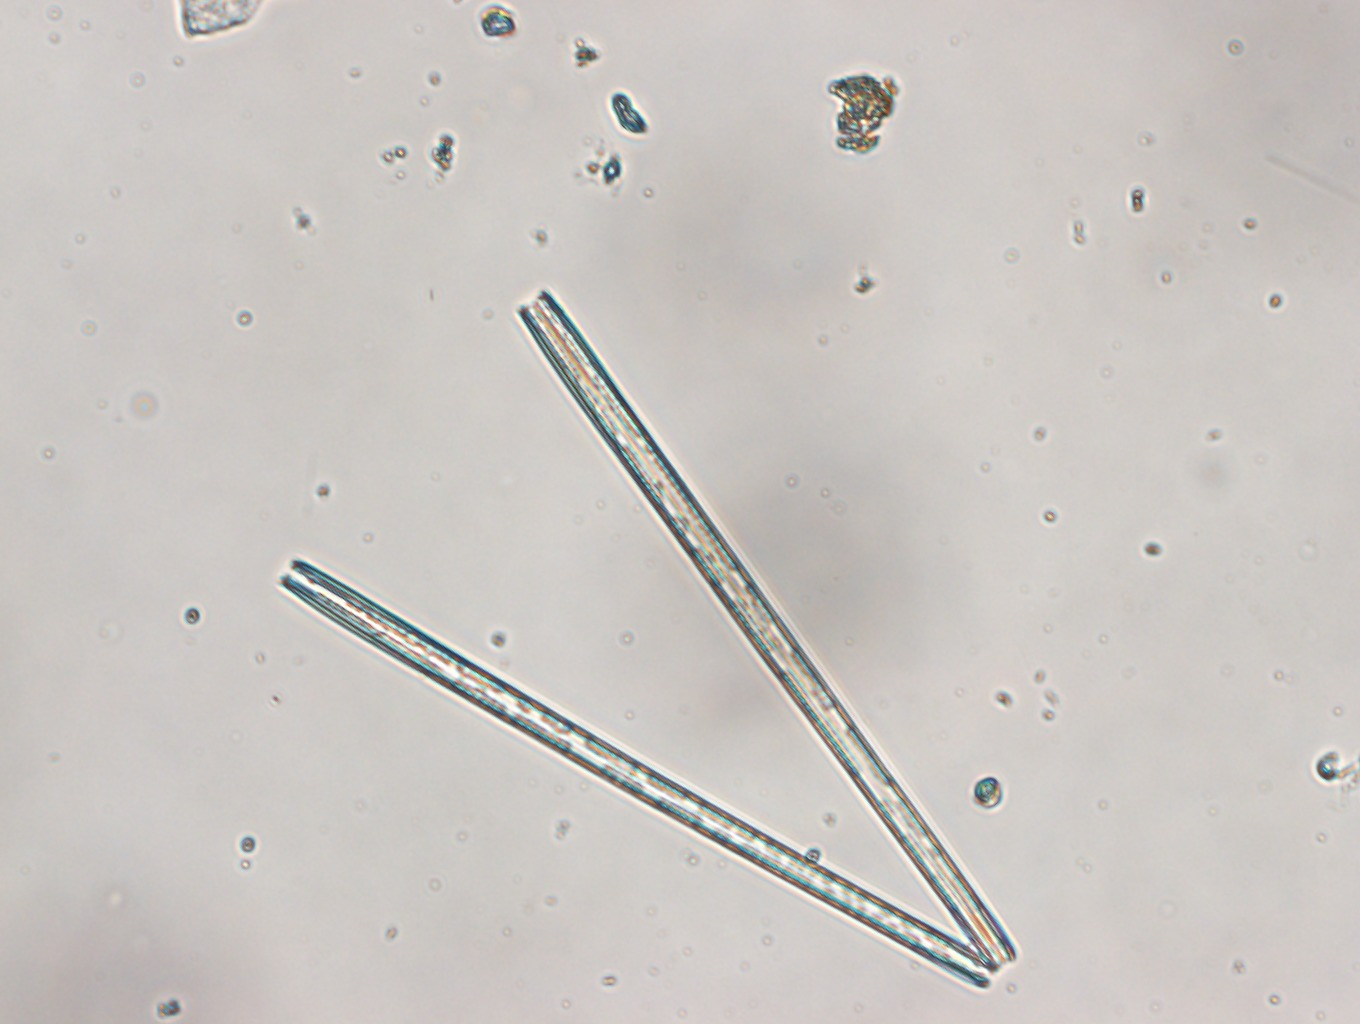thalassionema frauenfeldii: (278, 289, 1016, 991)
